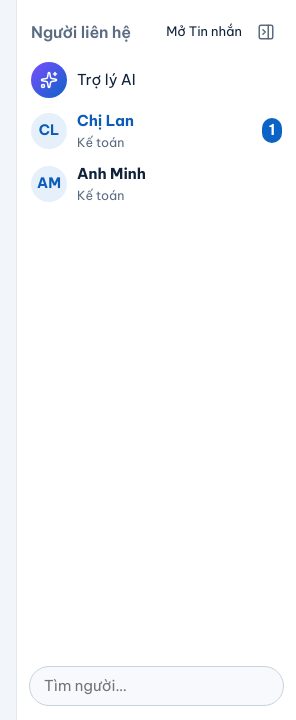
Test case: shows the contacts on the right with the search box under the list, and filters by name
The width and height of the screenshot is (296, 720).
Expected: the text "Chị Lan" is shown, [77,111,134,130]
Expected: the text "Trợ lý AI" is shown, [77,70,136,89]
Type "minh" into the search field with placeholder "Tìm người…" at x=156, y=686, box [29,666,284,706]
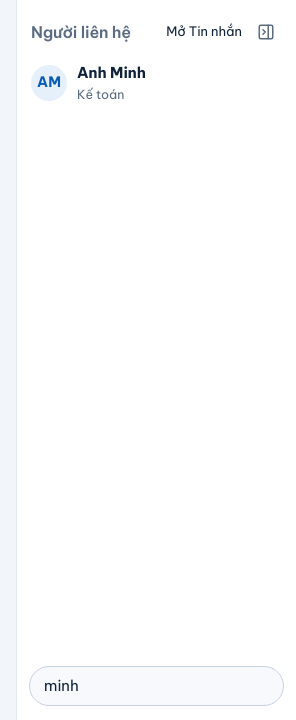
Expected: the text "Anh Minh" is shown, [77,63,146,82]
Expected: the button "Chị Lan" is gone
